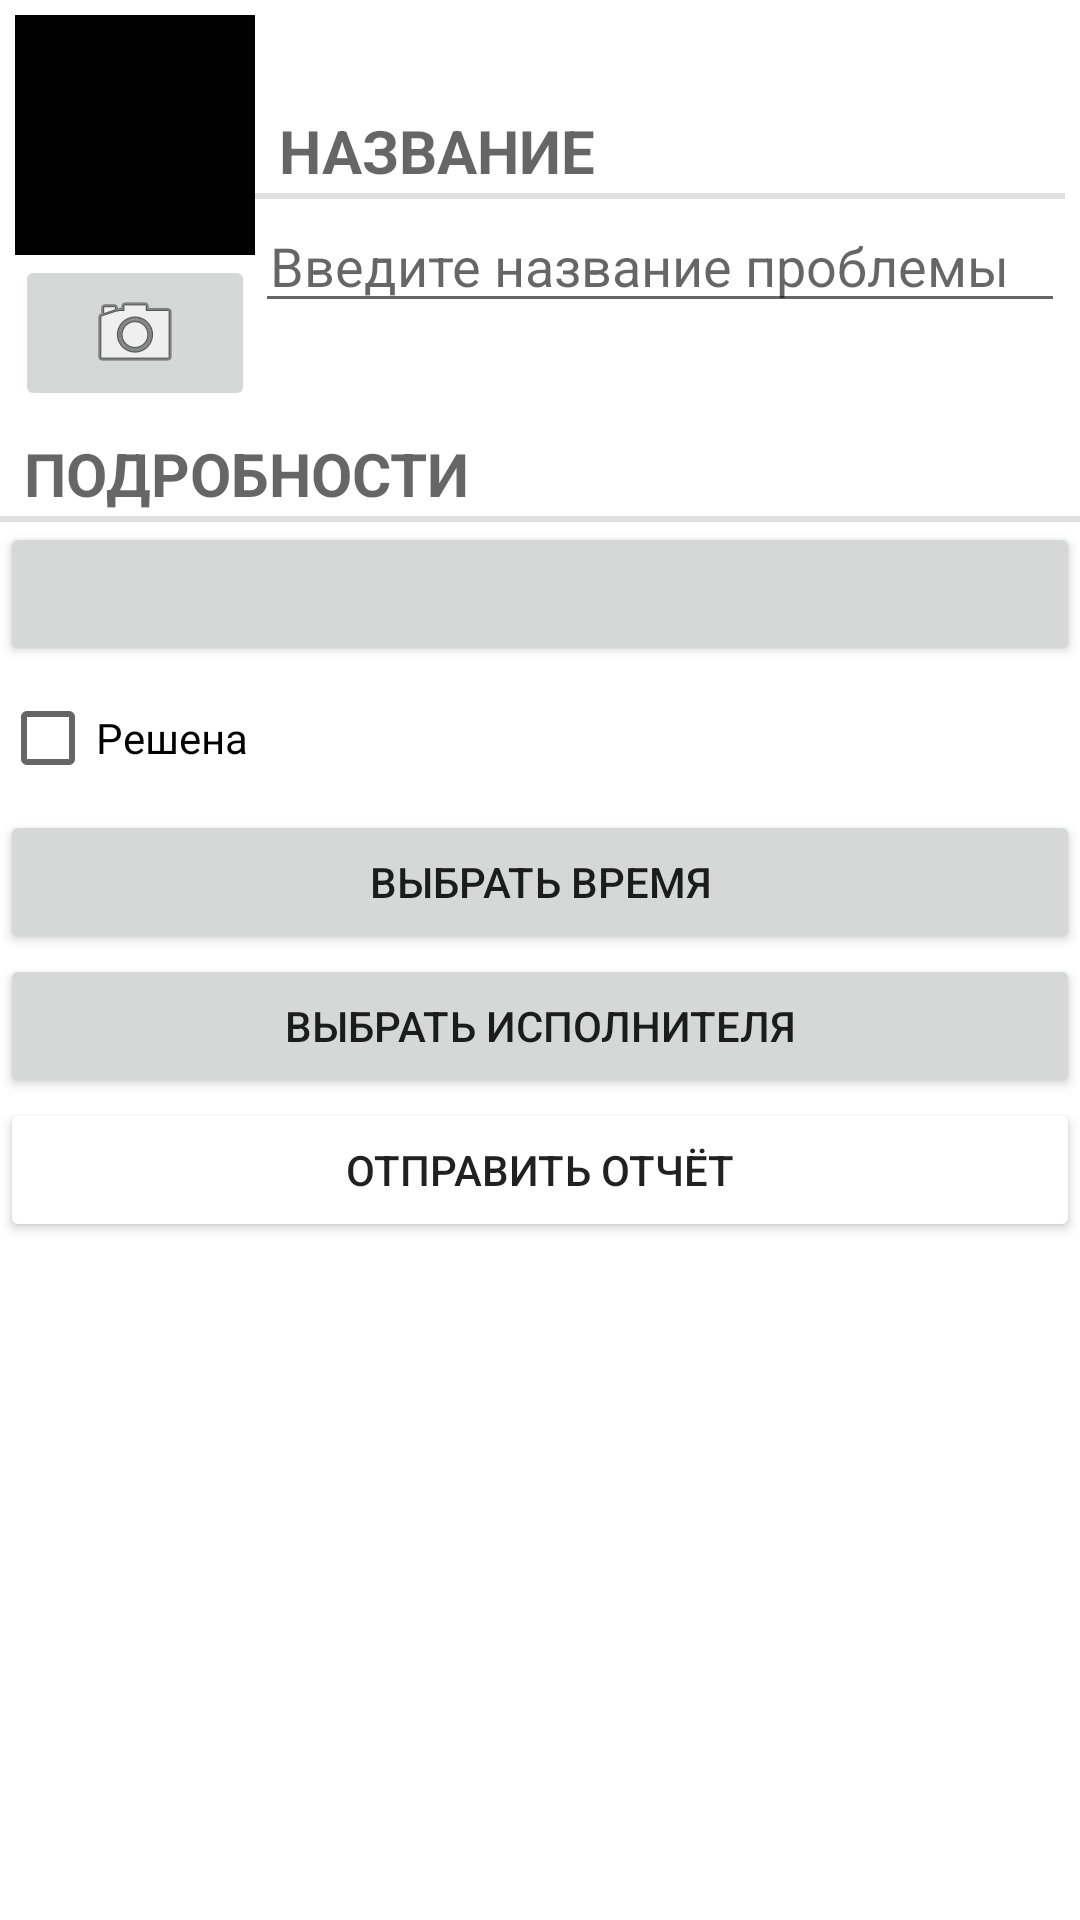

Named icons in this screenshot (1080 × 1920) and their bounding boxes, (x1=x1, y1=y1, x2=x2, y2=y2):
camera: (x1=27, y1=273, x2=243, y2=393)
